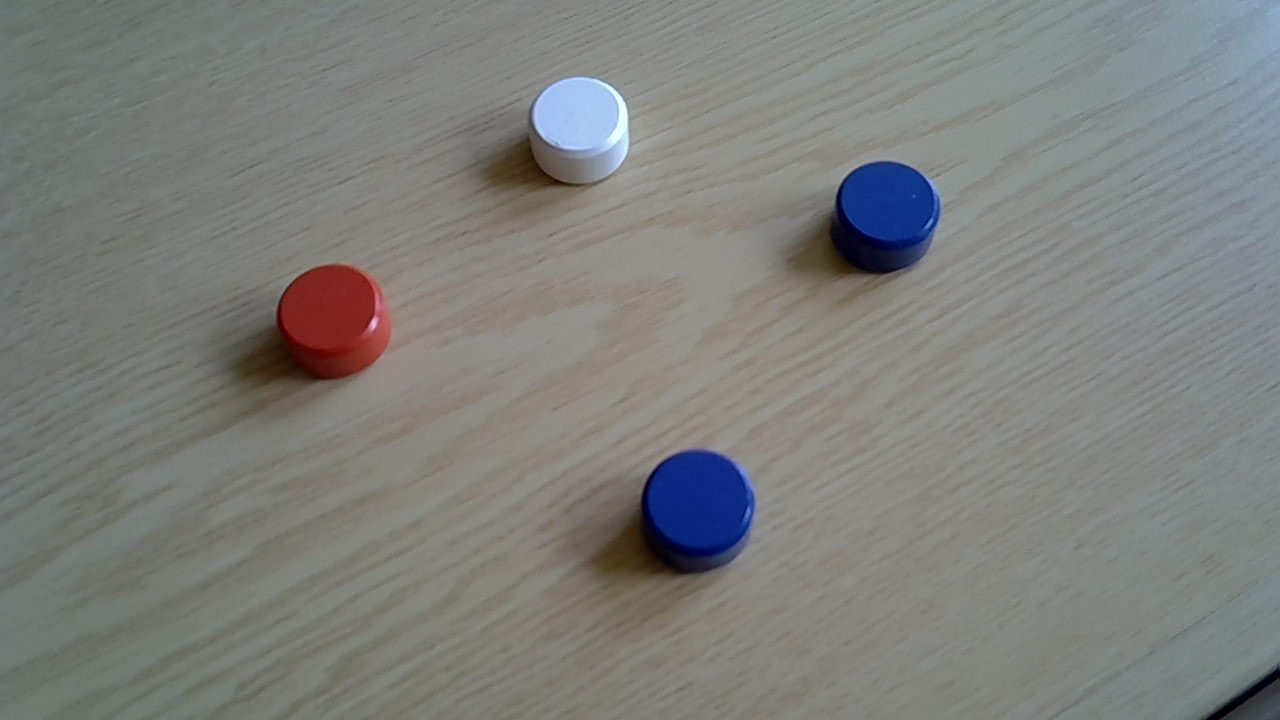WerkStueck: (637, 448, 758, 577), (275, 265, 395, 384), (829, 162, 942, 275), (526, 77, 632, 186)
